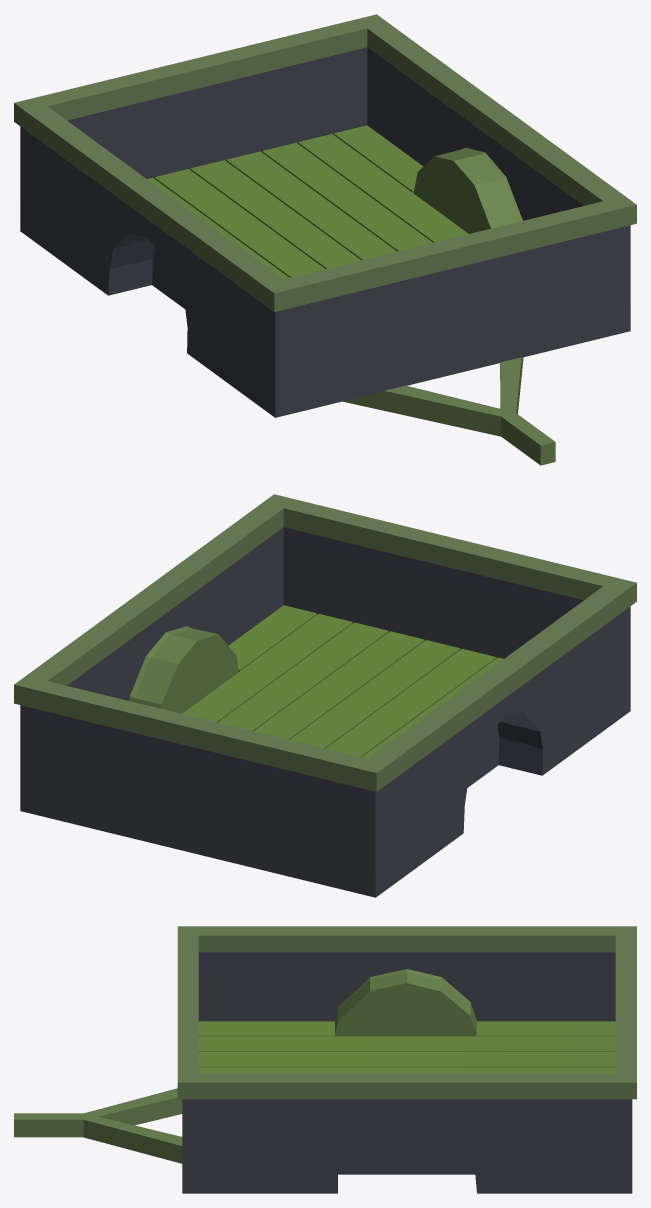
The model's file is CarTrailer_03.fbx.
3 views of the same model, one above another, from view 1: azimuth 30°, elevation 25°; view 2: azimuth 150°, elevation 25°; view 3: azimuth 270°, elevation 25° (orthographic). The views are drawn at different scales.
Visible parts, largest first — view 1: CarTrailer_03; view 2: CarTrailer_03; view 3: CarTrailer_03.
Boxes of the visible parts, left/top/right/bottom form: CarTrailer_03: left=14, top=14, right=636, bottom=465; CarTrailer_03: left=14, top=494, right=636, bottom=897; CarTrailer_03: left=14, top=926, right=636, bottom=1193.
Size of the model in its own units: 1.64 by 0.6363 by 2.77.
